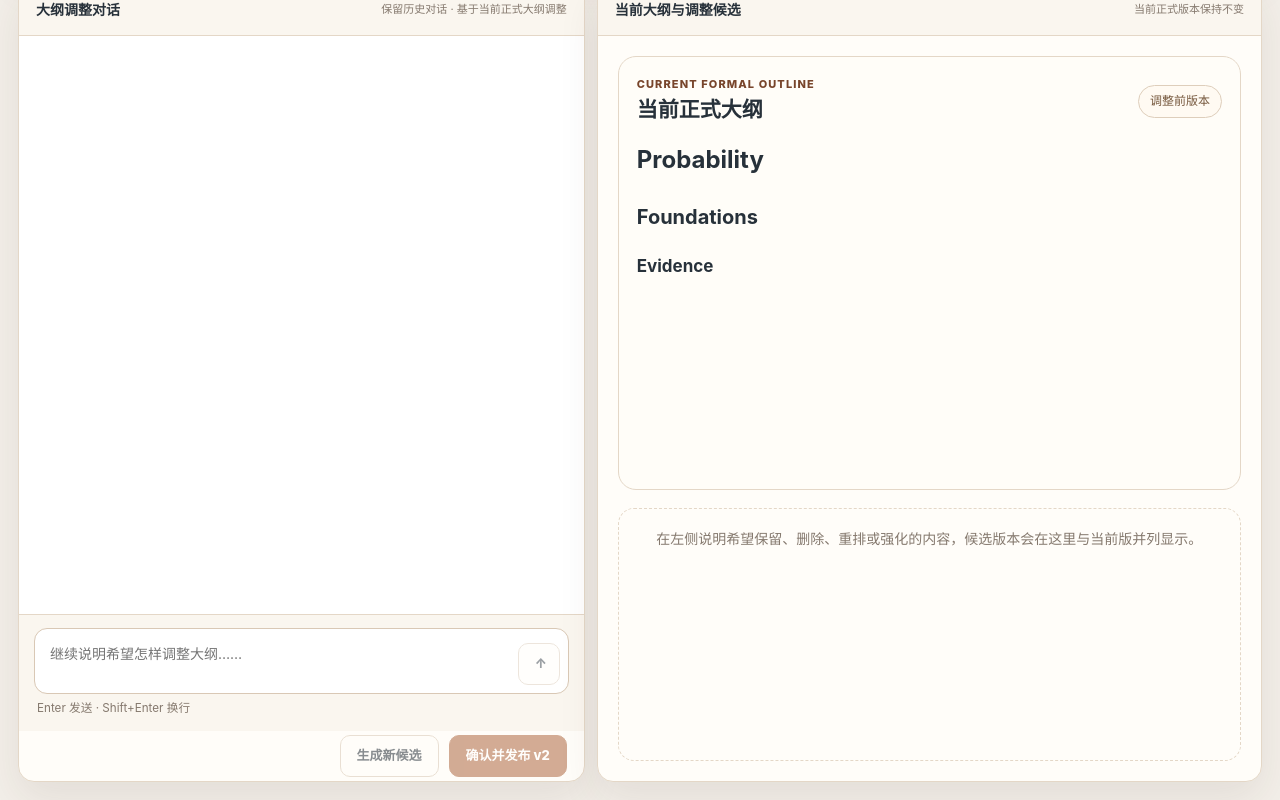
Test: CoursePage › [EQ-COURSE-04] reloads the authoritative course after an outline publish version conflict
(page scrolled)
In the text box labelled "继续说明希望怎样调整大纲": coordinates (276, 661) [43,637,509,685], type "Strengthen the evidence loop"
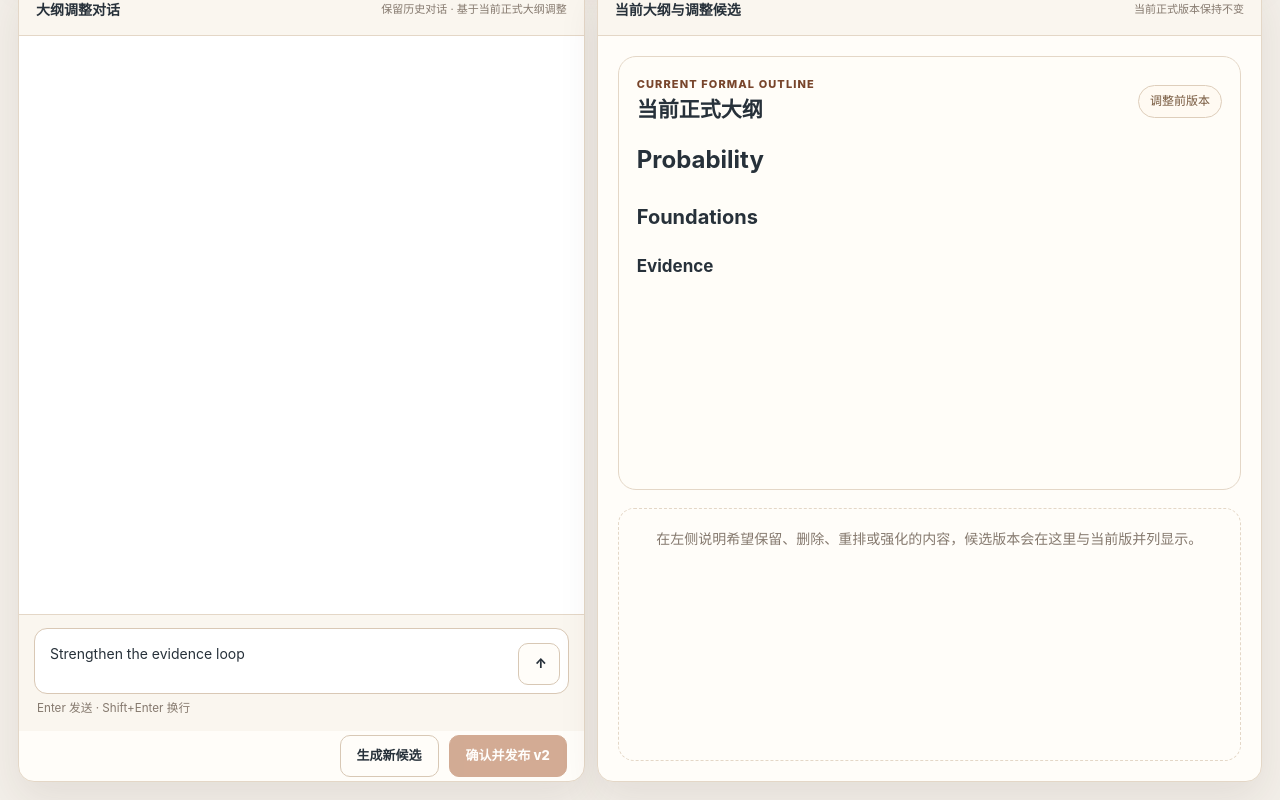
Click the button named "发送调整要求": coordinates (539, 664) [518,643,560,685]
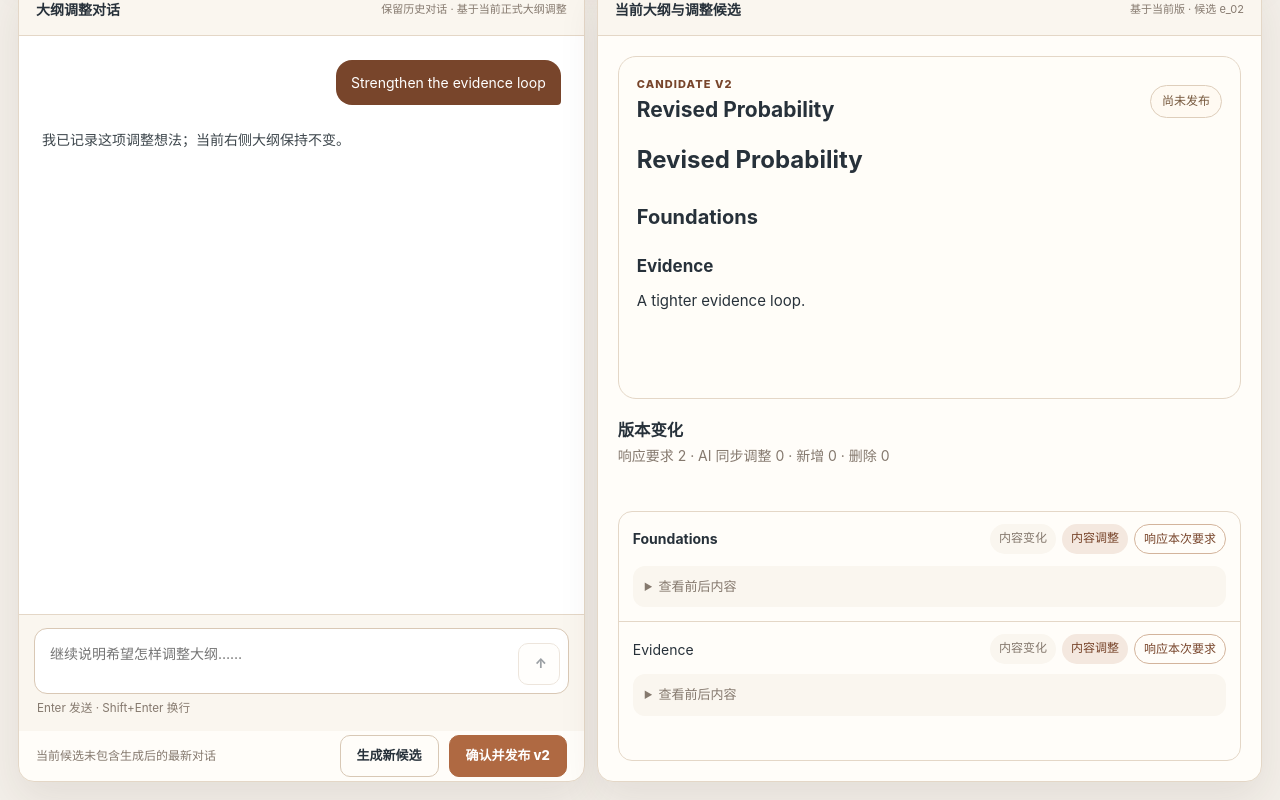
Expected: the heading "Revised Probability" below "CANDIDATE V" is shown, [637,93,834,128]
Click the button "确认并发布 v2": coordinates (508, 756) [449,735,567,777]
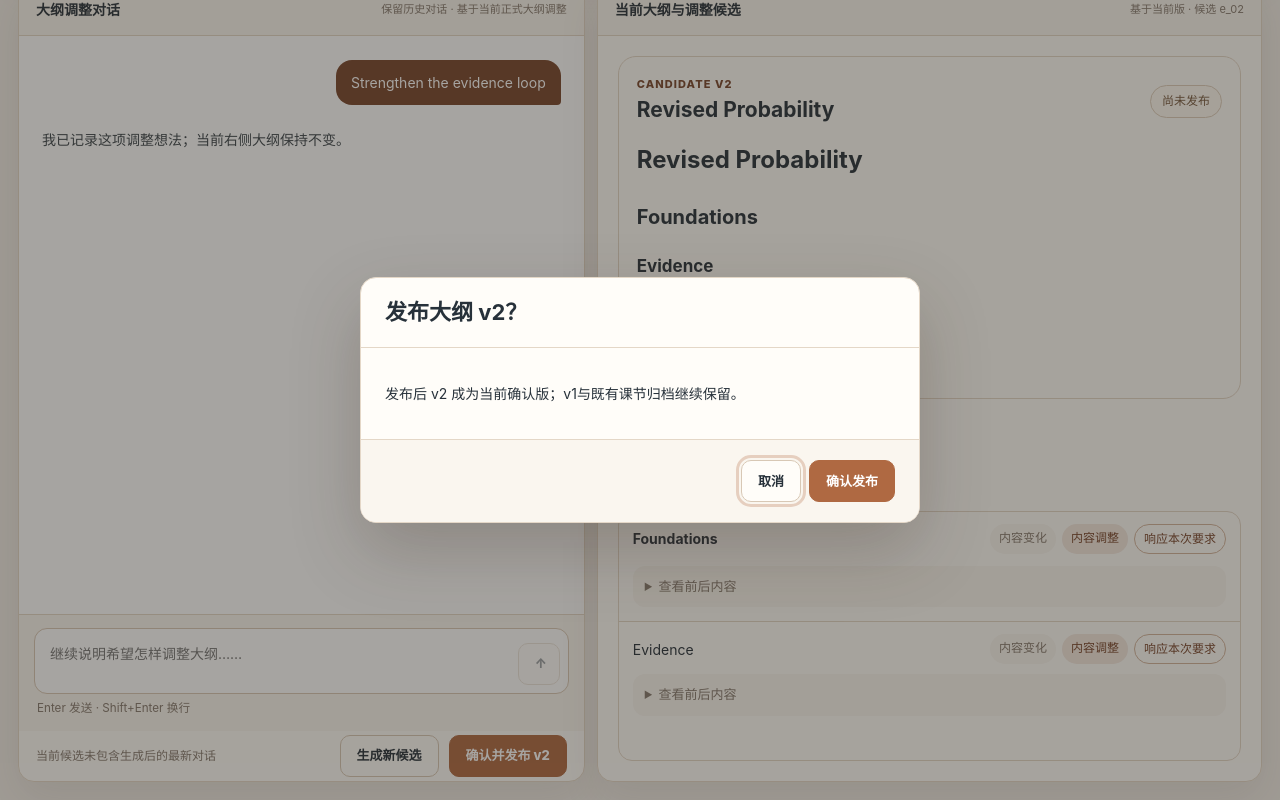
Click the button "确认发布": coordinates (852, 481) [809,460,895,502]
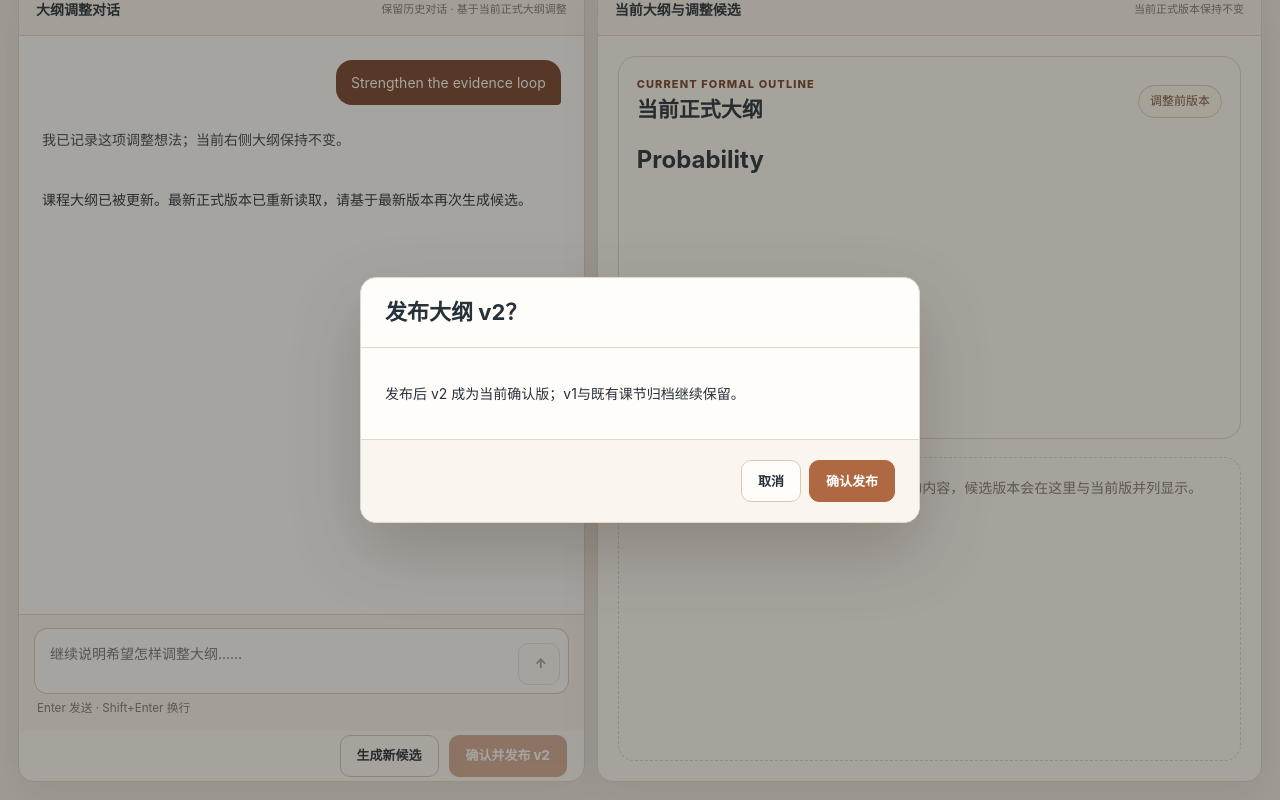
Expected: the message shows "最新正式版本已重新读取", [42,191,532,208]
